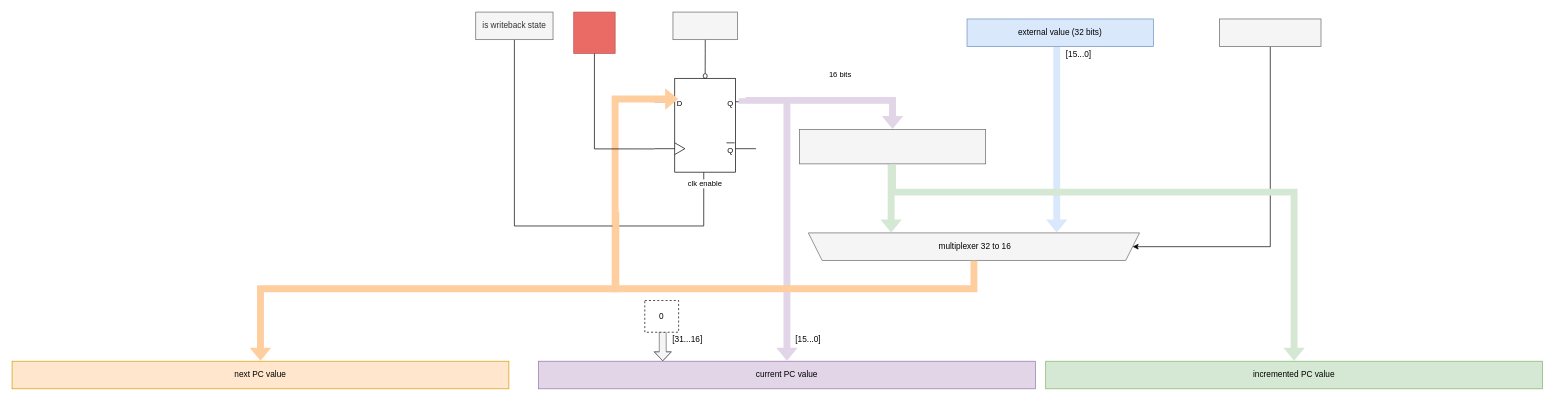
Some shapes in this 1555 by 401 pixel diagram are drawn without their labels. Each missing label, with the centre of its shape:
"CLK" belongs at (x=594, y=32).
"incrementer 16 bits by 4" belongs at (x=892, y=146).
"is next PC external value" belongs at (x=1270, y=32).
"is reset state" belongs at (x=704, y=25).
